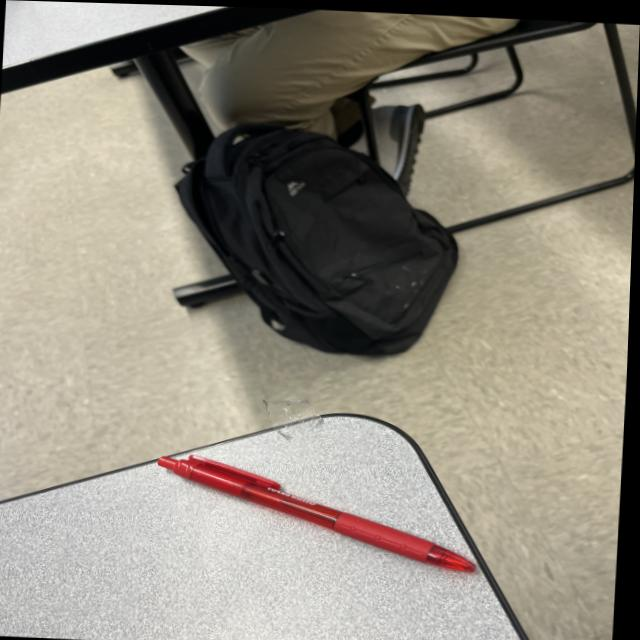pen: (155, 453, 485, 571)
